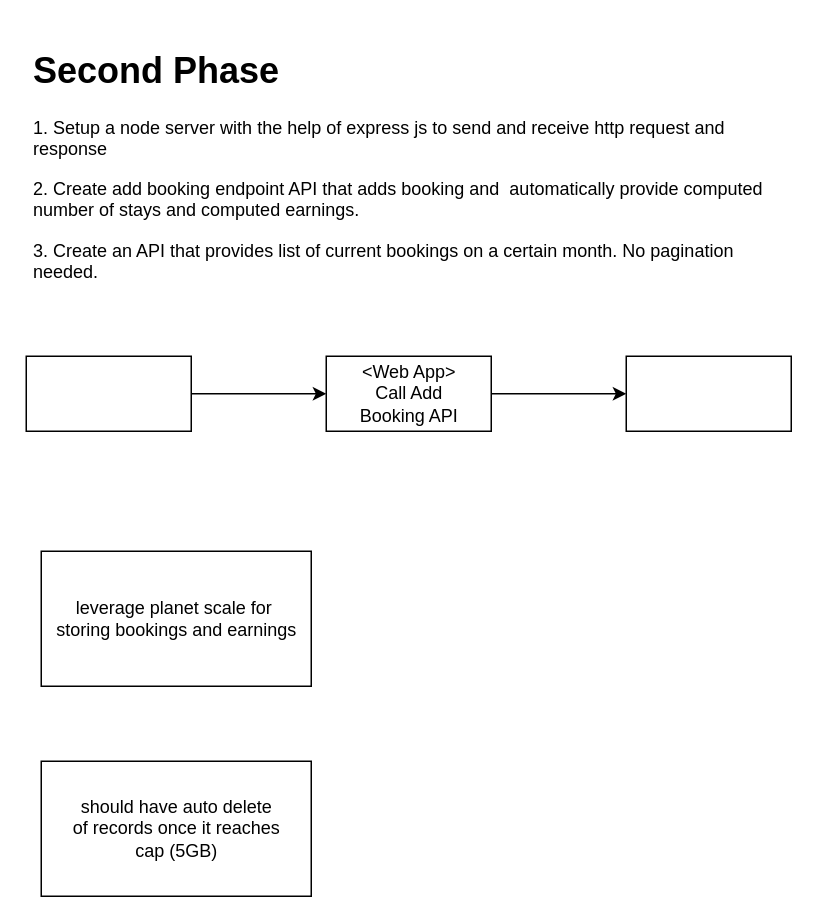
The diagram is 818 pixels wide and 923 high, and some of its shapes have lost their labels. Each missing label, with the box of its shape:
<Action> Add booking: (25, 355, 191, 431)
<Web Service>: (625, 355, 791, 431)
